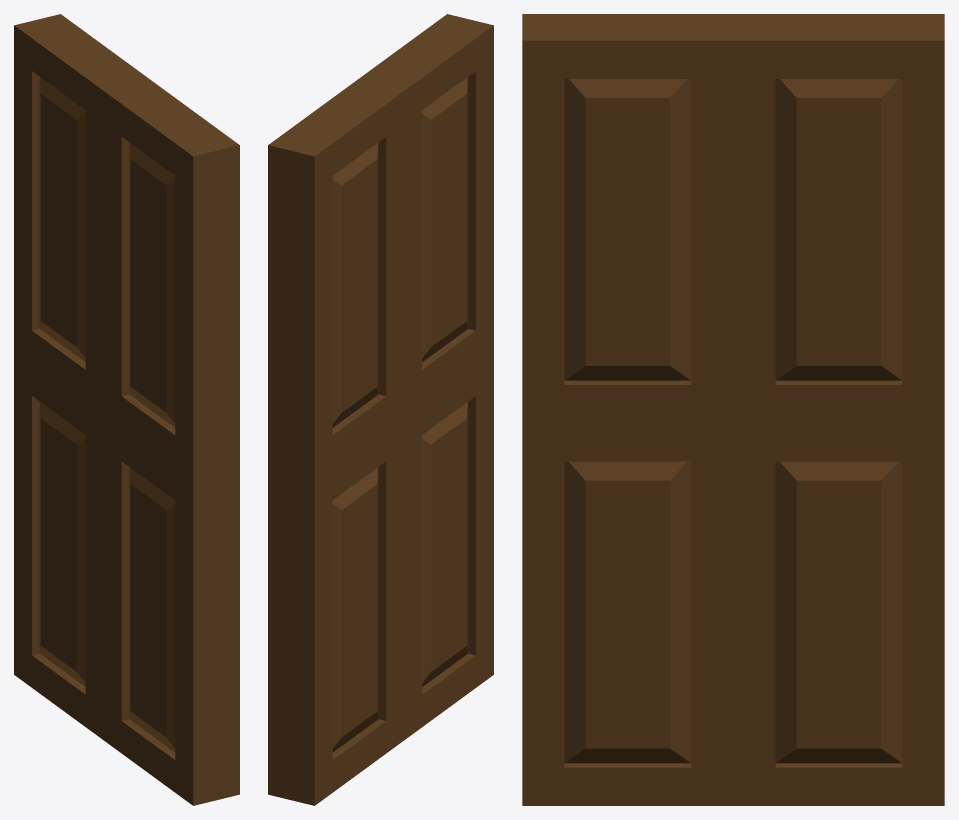
File: doorWood.fbx
3 views of the same model, side by side, from view 1: azimuth 30°, elevation 25°; view 2: azimuth 150°, elevation 25°; view 3: azimuth 270°, elevation 25° (orthographic). The views are drawn at different scales.
Visible parts, largest first — view 1: Door; view 2: Door; view 3: Door.
Boxes of the visible parts, x1,y1,x2,y2 form: Door: [14, 14, 239, 805]; Door: [268, 14, 493, 805]; Door: [522, 14, 944, 805].
Bounding box in the file's own units: 30 × 400 × 200.
